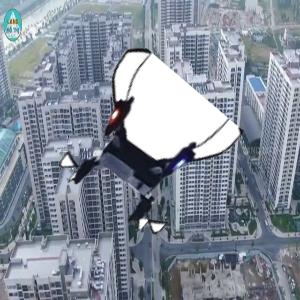drone: (66, 71, 223, 228)
